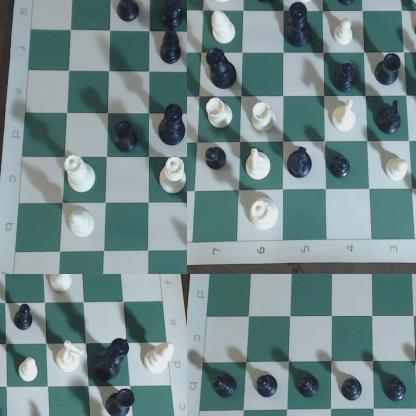black-bishop: (161, 30, 186, 70), (334, 61, 360, 92)
black-king: (100, 339, 133, 383), (288, 3, 313, 56), (159, 102, 187, 148)
black-knight: (376, 101, 406, 138), (285, 149, 315, 179), (158, 1, 187, 29)
black-pawn: (207, 144, 234, 176), (328, 154, 358, 181), (14, 305, 38, 337), (211, 372, 238, 399), (255, 370, 279, 400), (296, 371, 321, 399), (385, 375, 408, 404), (341, 375, 364, 403), (335, 1, 362, 10)
black-queen: (205, 47, 243, 91), (94, 338, 130, 384)
black-rook: (107, 384, 140, 416), (115, 115, 140, 156), (375, 54, 402, 90), (114, 1, 144, 26)
white-bishop: (208, 9, 243, 50), (143, 341, 178, 378), (68, 207, 101, 244)
white-knight: (55, 334, 87, 374), (332, 99, 361, 134), (244, 148, 272, 183)
white-pawn: (13, 355, 43, 387), (384, 155, 412, 184), (334, 15, 356, 46)
white-queen: (61, 153, 100, 194), (159, 155, 187, 199), (247, 198, 280, 235)
white-rook: (203, 97, 237, 131), (48, 275, 85, 305), (251, 102, 282, 137)
